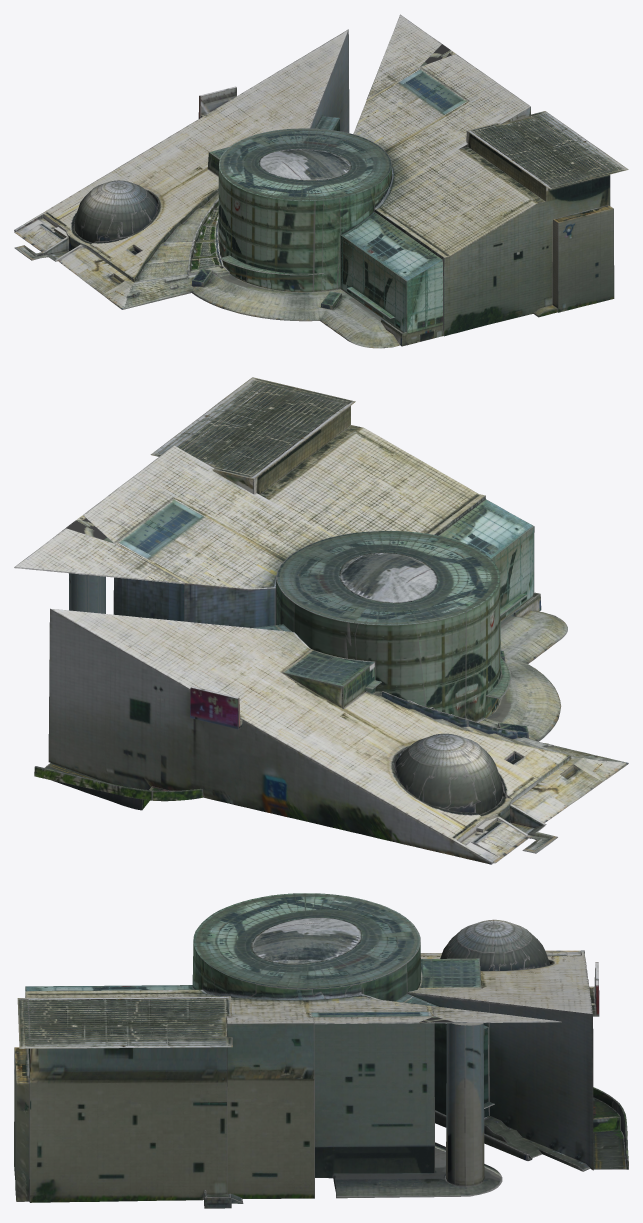
Rendered from FTYX0876.obj.
3 renders of one model, top to bottom at view 1: azimuth 30°, elevation 25°; view 2: azimuth 150°, elevation 25°; view 3: azimuth 270°, elevation 25°, orthographic. The views are drawn at different scales.
Size of the model in its own units: 139 by 45.3 by 135.
1 material, 1 textured.
